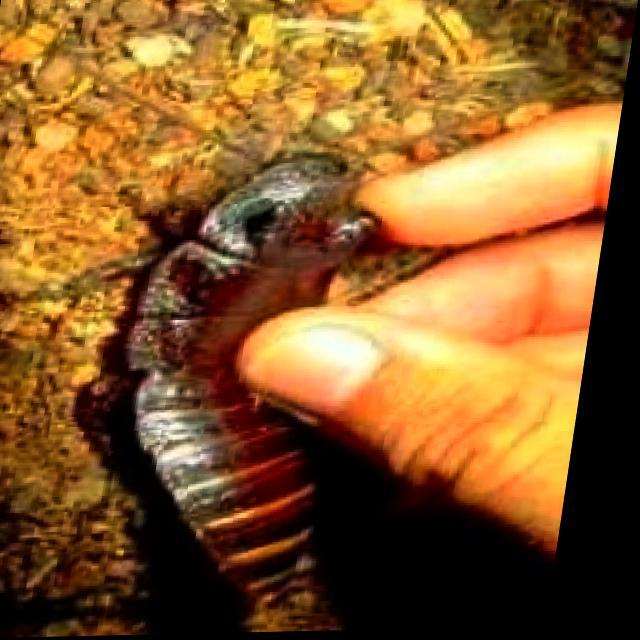cockroach: (93, 105, 410, 640)
